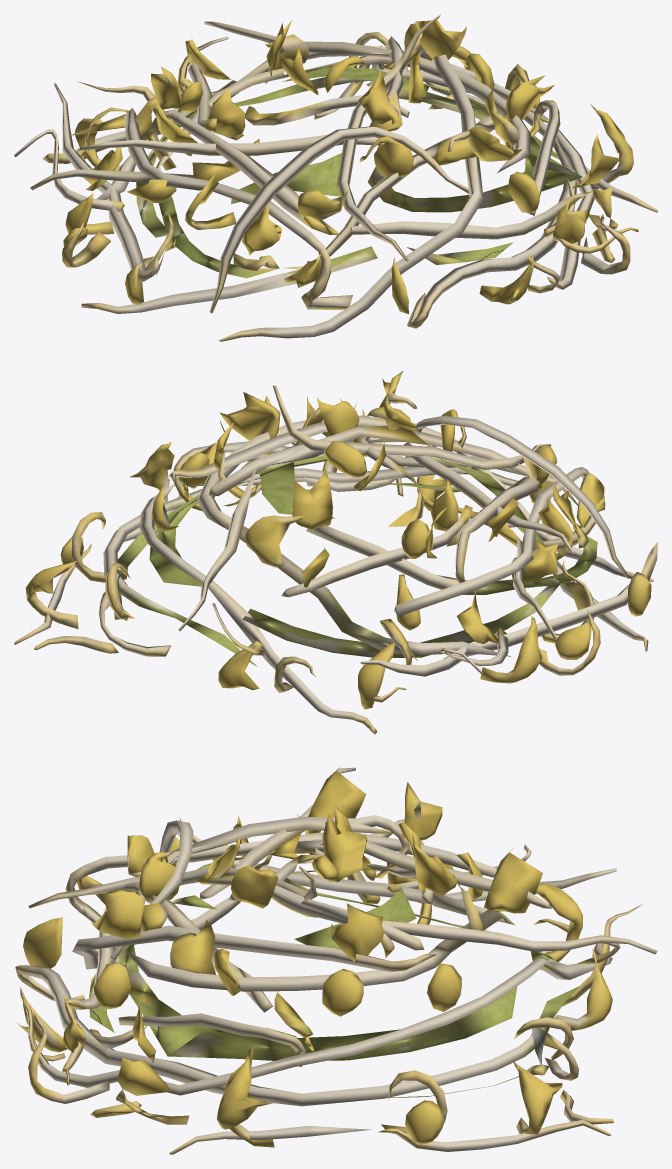
3 renders of one model, top to bottom at view 1: azimuth 30°, elevation 25°; view 2: azimuth 150°, elevation 25°; view 3: azimuth 270°, elevation 25°, orthographic. The views are drawn at different scales.
Visible parts, largest first — view 1: Bean Sprouts; view 2: Bean Sprouts; view 3: Bean Sprouts.
Part boxes in pixels (box(x1,y1,x2,y2)): Bean Sprouts: box(14, 14, 657, 341); Bean Sprouts: box(14, 371, 657, 734); Bean Sprouts: box(15, 765, 657, 1154).
Bounding box in the file's own units: 0.998 × 0.3535 × 0.9746.
Materials: 1 (1 with a texture image).
